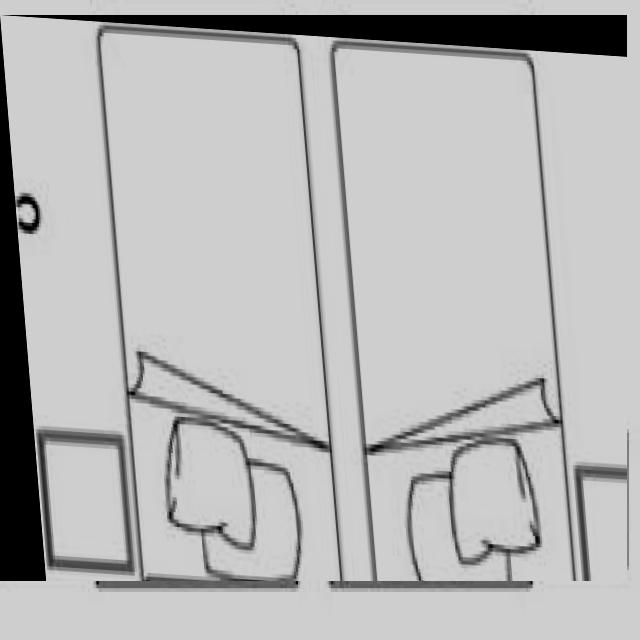bed: (0, 15, 627, 581)
